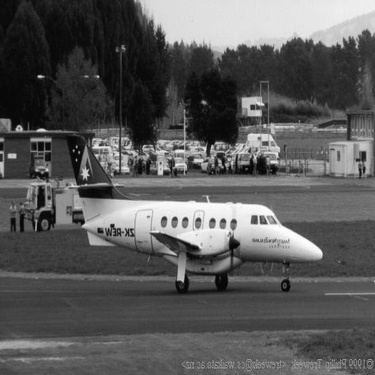airplane: (1, 115, 348, 296)
